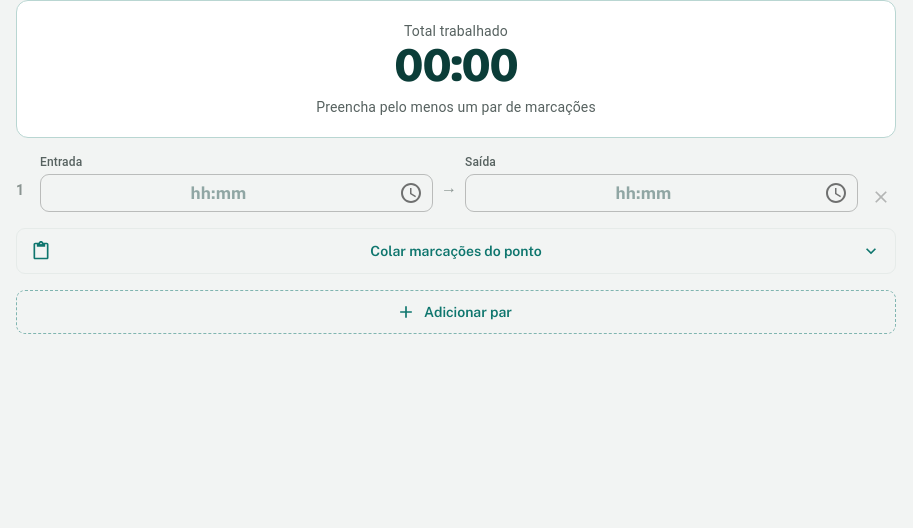
Test: pasting a line of punch marks › into Tempo Total › fills one row per pair and totals them
The width and height of the screenshot is (913, 528).
Click the button "Colar marcações do ponto". click: (456, 251)
box: left=17, top=229, right=895, bottom=273
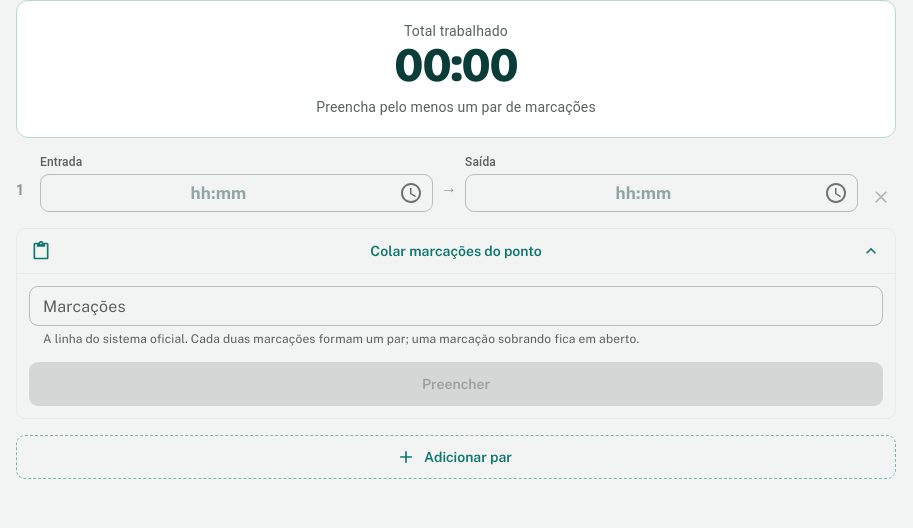
Type "08:00 12:00 13:00 18:00" into the field labelled "Marcações". click: (456, 306)
box: left=29, top=286, right=883, bottom=326
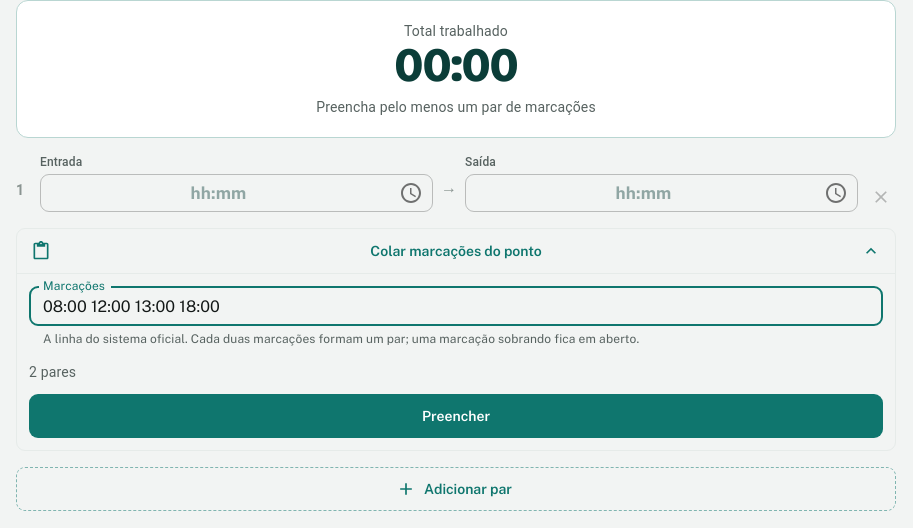
Expected: the text "2 pares" is shown, left=29, top=364, right=76, bottom=380
Click the button "Preencher". click: (456, 416)
box: left=29, top=394, right=883, bottom=438
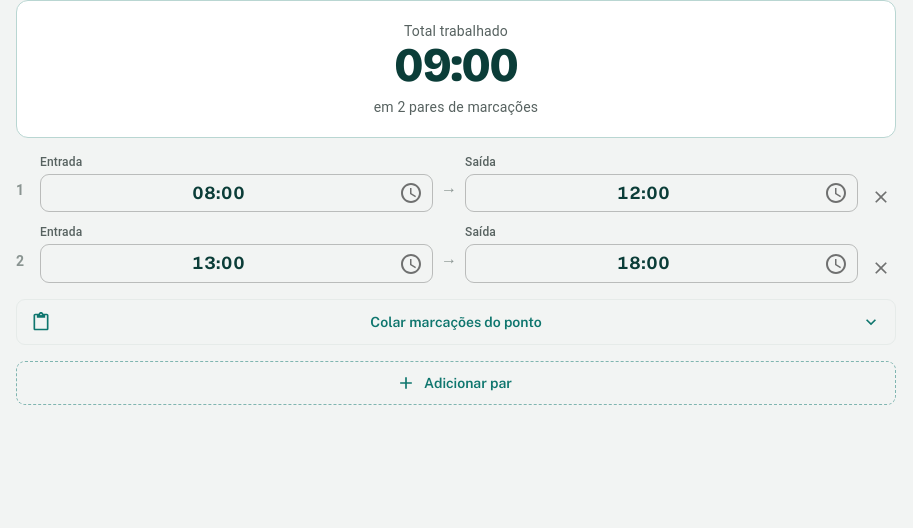
Expected: the text "09:00" is shown, left=394, top=36, right=518, bottom=94
